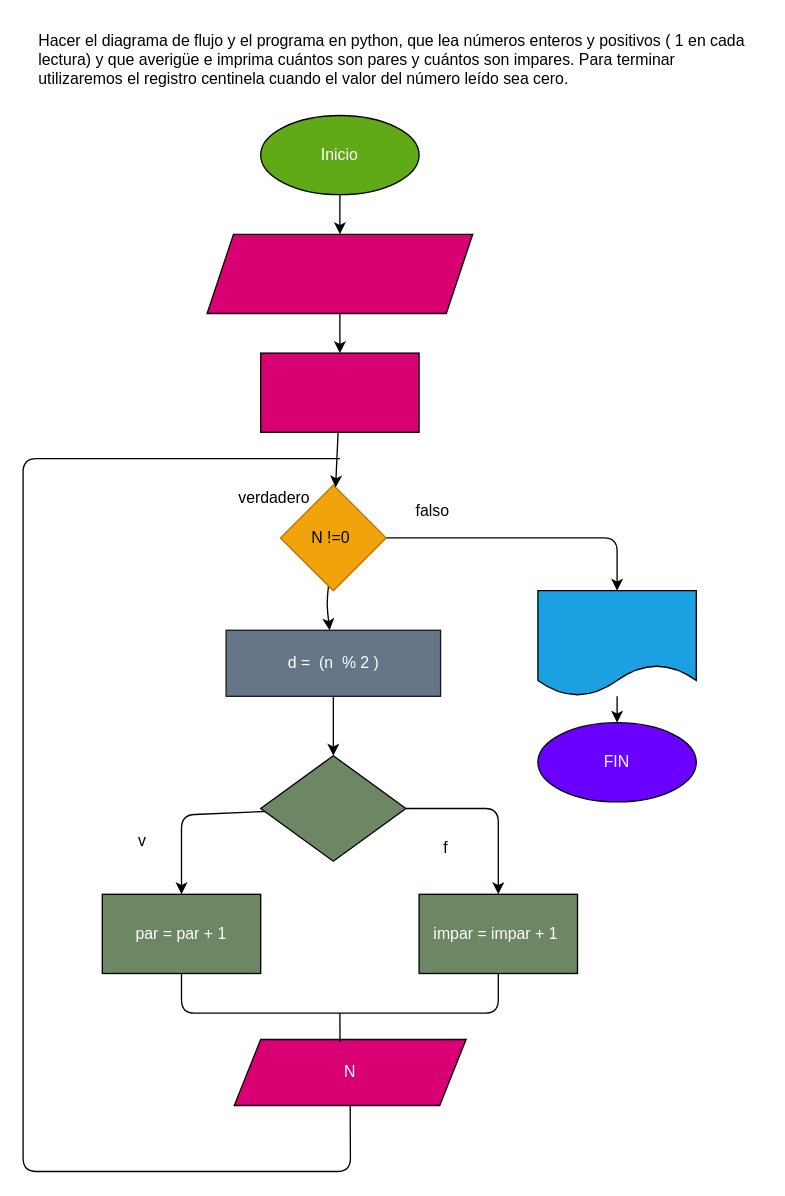
Some shapes in this 785 by 1196 pixel diagram are drawn without their labels. The box of each missing label's shape, as (x1, y1, x2, y2) in pixels:
N = Numeros: (206, 233, 473, 314)
no es par ni impar: (537, 589, 696, 696)
PAR = 0 IMPAR = 0: (259, 352, 419, 432)
r = 0: (259, 754, 406, 861)
